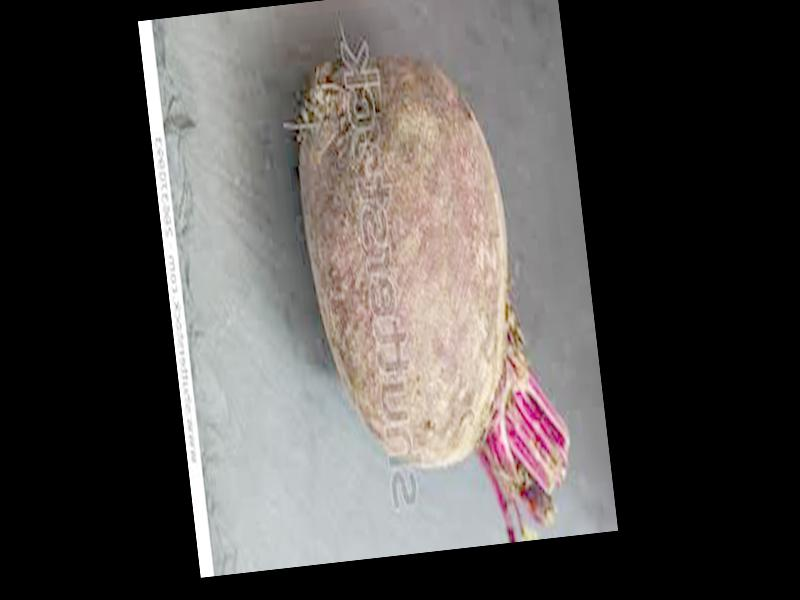Beet: (286, 37, 577, 558)
